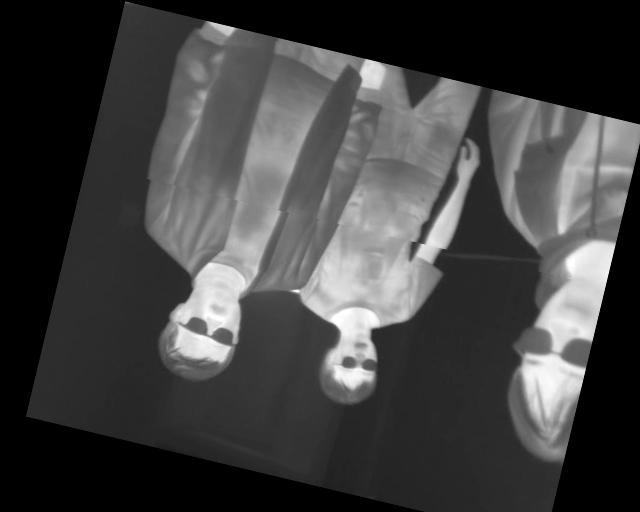face: (492, 271, 604, 466), (151, 271, 252, 390), (311, 320, 390, 412)
